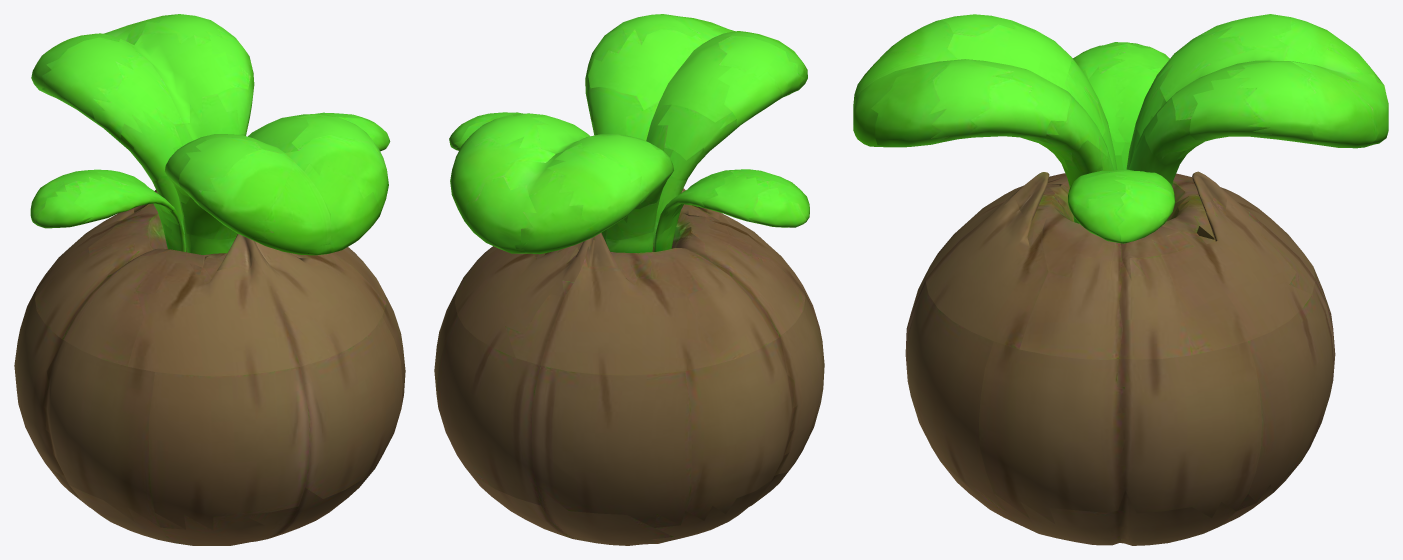
The model's file is la_coco.glb.
The picture shows the model from 3 angles, left to right: view 1: azimuth 30°, elevation 25°; view 2: azimuth 150°, elevation 25°; view 3: azimuth 270°, elevation 25°; orthographic projection. The views are drawn at different scales.
Size of the model in its own units: 0.8262 by 0.9824 by 1.
1 material, 1 textured.
